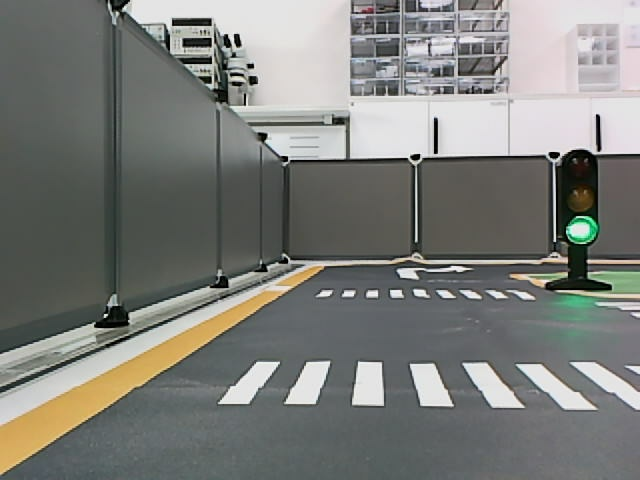crosswalk: (217, 354, 640, 416), (312, 287, 539, 302)
green: (565, 216, 595, 242)
